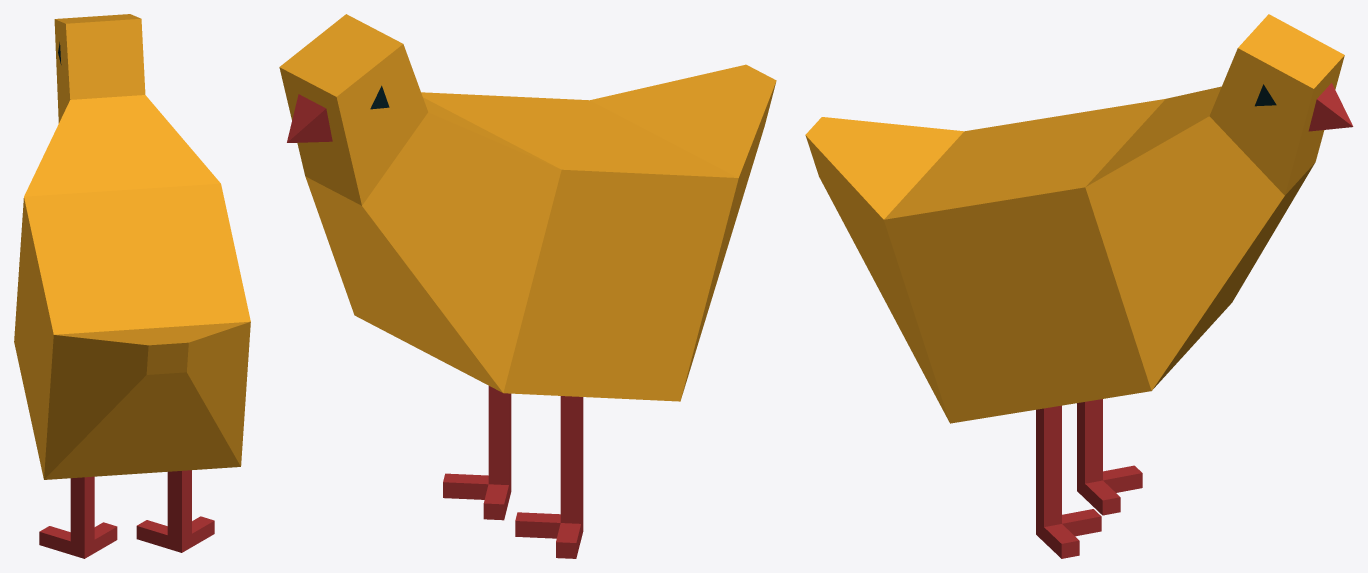
File: CHICKEN.fbx
3 views of the same model, side by side, from view 1: azimuth 30°, elevation 25°; view 2: azimuth 150°, elevation 25°; view 3: azimuth 270°, elevation 25° (orthographic). The views are drawn at different scales.
Parts seen in each view (by area): view 1: Pyramid_1, Cube_2; view 2: Pyramid_1, Cube_2; view 3: Pyramid_1, Cube_2.
Part boxes in pixels (bbox=[...]): Pyramid_1: bbox=[14, 14, 250, 479]; Cube_2: bbox=[39, 470, 214, 558]; Pyramid_1: bbox=[279, 14, 776, 401]; Cube_2: bbox=[287, 94, 583, 558]; Pyramid_1: bbox=[805, 14, 1344, 423]; Cube_2: bbox=[1036, 83, 1353, 558].
Bounding box in the file's own units: 39.02 × 70.76 × 68.42.
1 material, 1 textured.
